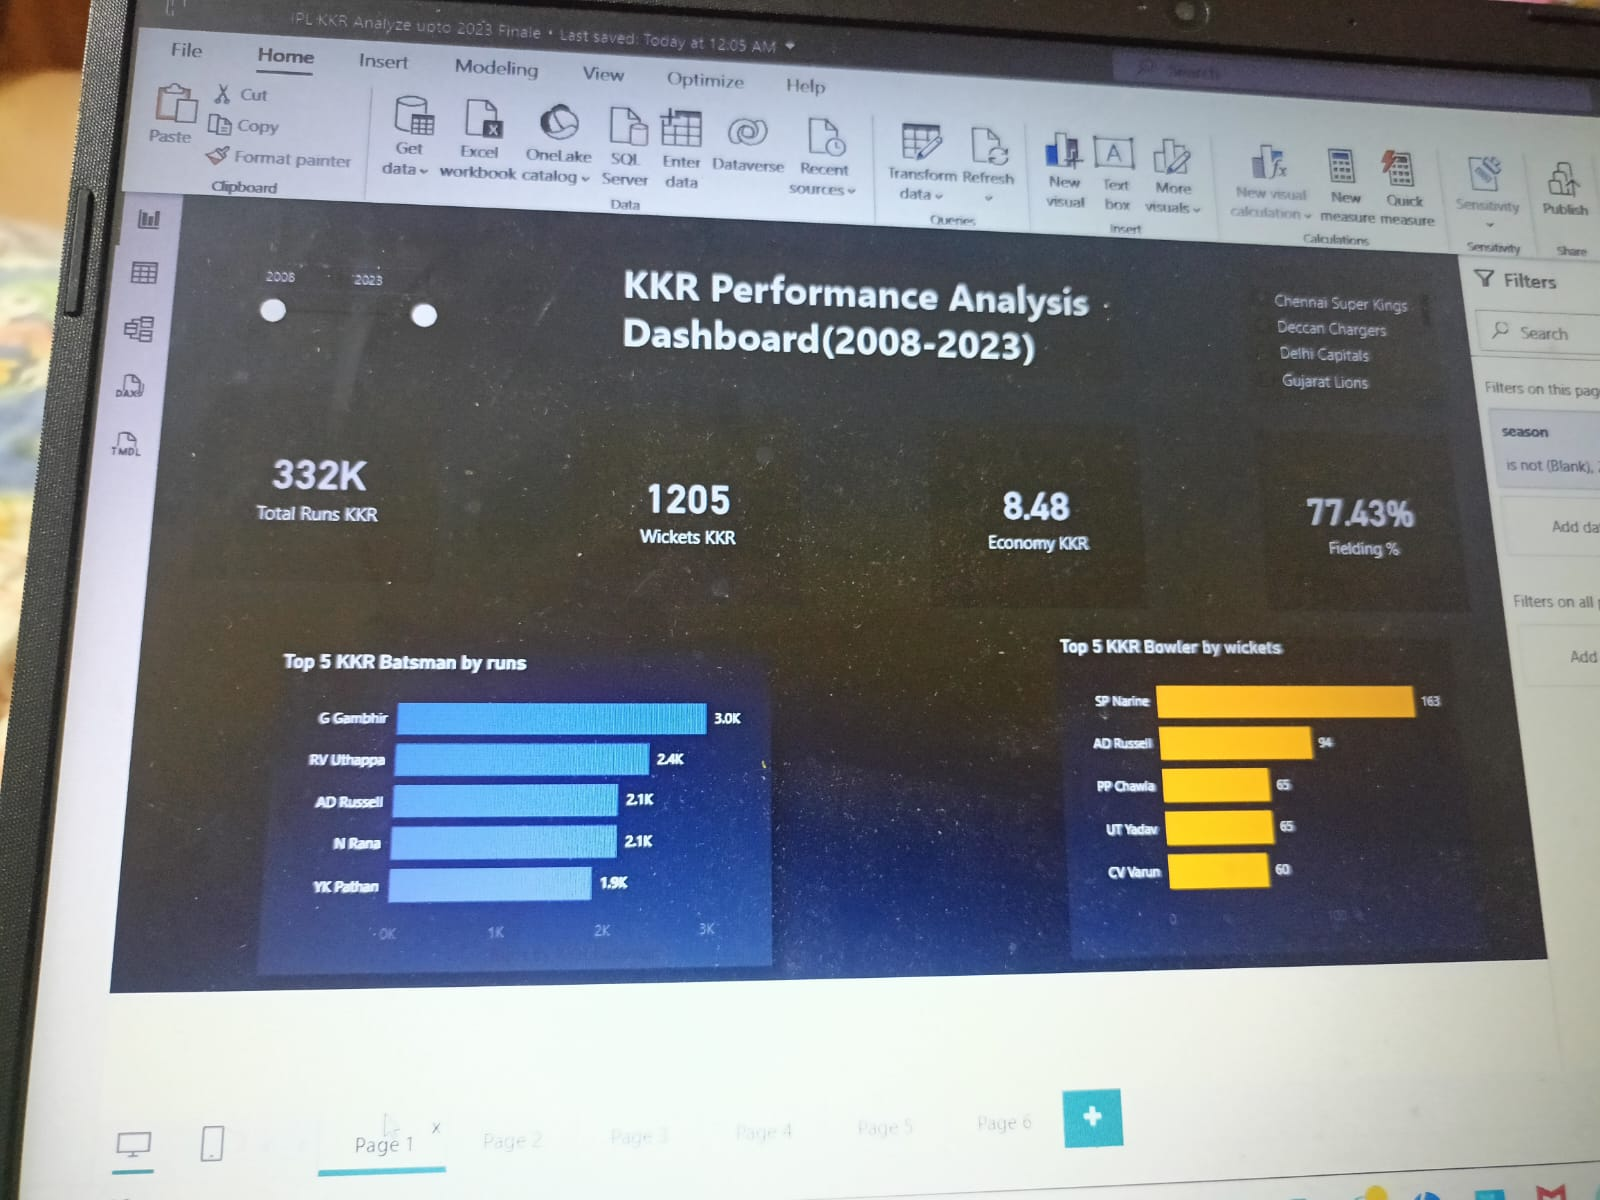

The page's visual inventory and layout, read from the dashboard file:
{"tool":"powerbi","page":{"name":"Page 1","canvas":[1280,720],"ordinal":0},"visuals":[{"type":"card","fields":{"Values":["IPL_ball_by_ball_updated.Total Runs KKR"]},"box":[35.7,188,211.3,182.5],"z":0},{"type":"card","fields":{"Values":["IPL_ball_by_ball_updated.Wickets KKR"]},"box":[368.2,203.1,211.3,183.9],"z":1000},{"type":"card","fields":{"Values":["IPL_ball_by_ball_updated.Economy KKR"]},"box":[700.7,203.1,211.3,183.9],"z":2000},{"type":"card","fields":{"Values":["IPL_ball_by_ball_updated.Fielding %"]},"box":[1033.3,203.1,211.3,183.9],"z":3000},{"type":"barChart","title":"Top 5 KKR Batsman by runs","fields":{"Y":["IPL_ball_by_ball_updated.Runs by KKR Batsman"],"Category":["IPL_ball_by_ball_updated.striker"]},"box":[117,431.9,431.9,275.1],"z":4000},{"type":"barChart","title":"Top 5 KKR Bowler by wickets","fields":{"Category":["IPL_ball_by_ball_updated.bowler"],"Y":["IPL_ball_by_ball_updated.Wickets KKR"]},"box":[818,412.6,400.5,294.4],"z":5000},{"type":"slicer","fields":{"Values":["IPL_ball_by_ball_updated.season"]},"box":[60.4,42.5,186.6,112.5],"z":6000},{"type":"slicer","fields":{"Values":["matches_updated_ipl_upto_2025.Opponent"]},"box":[1033.3,23.3,211.3,150.9],"z":7000},{"type":"textbox","box":[405.4,42.2,495.8,114.6],"z":8000}]}

Visuals, with their boxes on the page's 1280x720 design canvas (x1, y1, x2, y2). These are canvas units, not pixel positions in the 1600x1200 screenshot, which may show the page scaled, cropped or inside an application window:
card - IPL_ball_by_ball_updated.Total Runs KKR: locate(36, 188, 247, 370)
card - IPL_ball_by_ball_updated.Wickets KKR: locate(368, 203, 580, 387)
card - IPL_ball_by_ball_updated.Economy KKR: locate(701, 203, 912, 387)
card - IPL_ball_by_ball_updated.Fielding %: locate(1033, 203, 1245, 387)
"Top 5 KKR Batsman by runs" barChart: locate(117, 432, 549, 707)
"Top 5 KKR Bowler by wickets" barChart: locate(818, 413, 1218, 707)
slicer - IPL_ball_by_ball_updated.season: locate(60, 42, 247, 155)
slicer - matches_updated_ipl_upto_2025.Opponent: locate(1033, 23, 1245, 174)
textbox: locate(405, 42, 901, 157)
